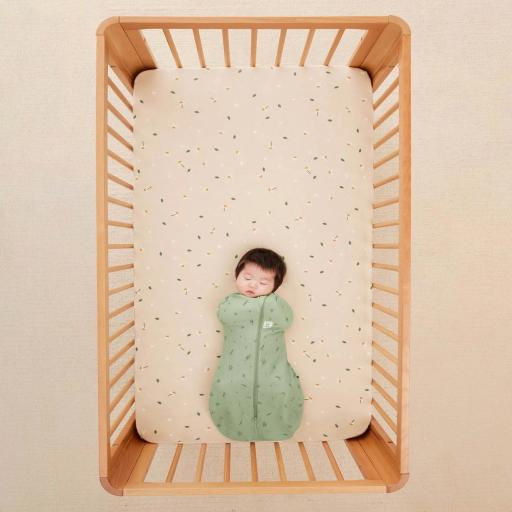baby: (209, 248, 303, 441)
crib: (128, 29, 383, 446)
